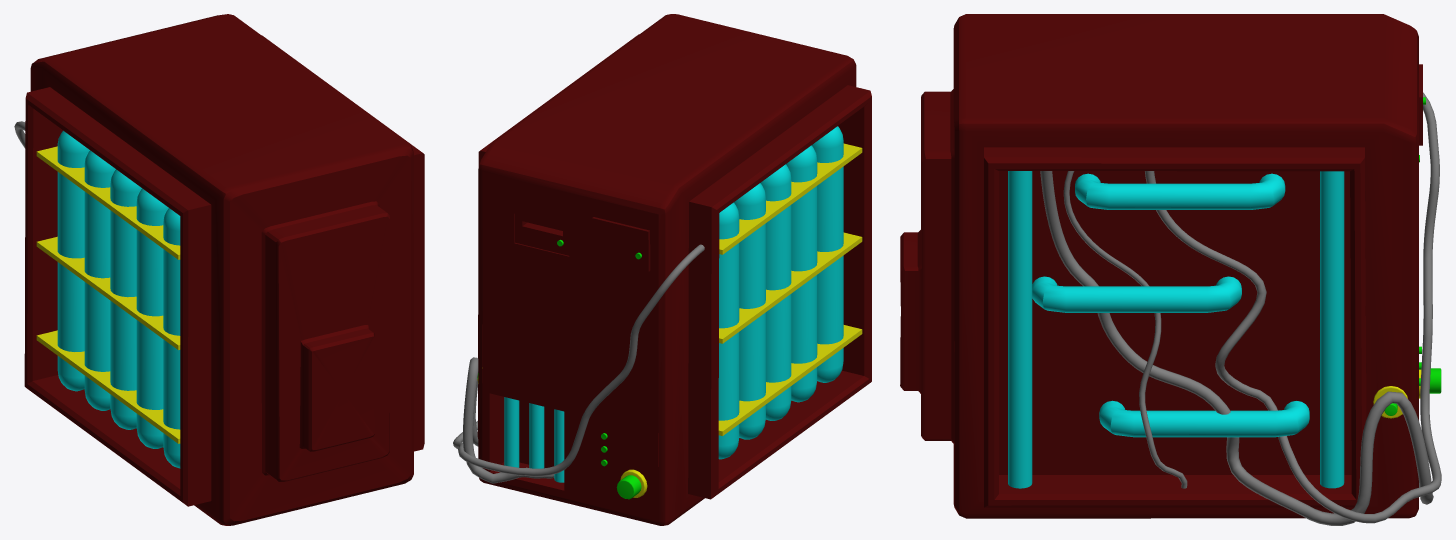
File: PCTower.fbx
The picture shows the model from 3 angles, left to right: view 1: azimuth 30°, elevation 25°; view 2: azimuth 150°, elevation 25°; view 3: azimuth 270°, elevation 25°; orthographic projection. The views are drawn at different scales.
Visible parts, largest first — view 1: PCTower2; view 2: PCTower2; view 3: PCTower2.
Part boxes in pixels (x1,y1,x2,y2): PCTower2: (14,14,424,525); PCTower2: (453,14,871,525); PCTower2: (900,14,1441,525).
Size of the model in its own units: 56.83 by 70.57 by 86.53.
